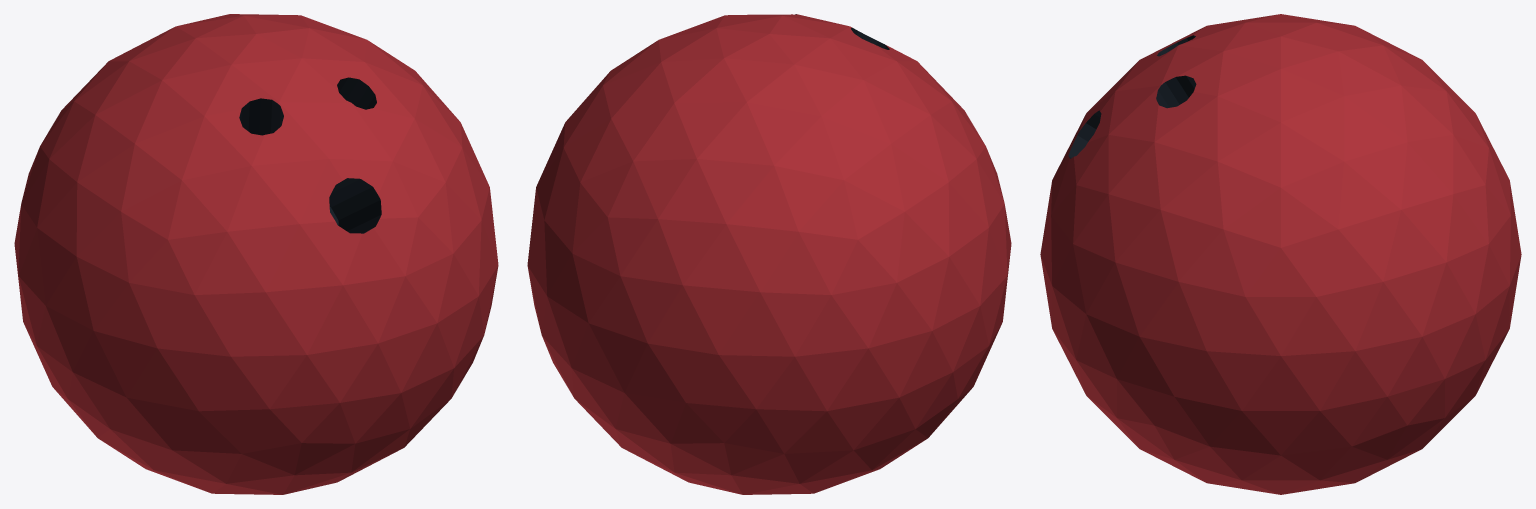
The model's file is BowlingBall_Red.fbx.
3 views of the same model, side by side, from view 1: azimuth 30°, elevation 25°; view 2: azimuth 150°, elevation 25°; view 3: azimuth 270°, elevation 25° (orthographic).
Parts seen in each view (by area): view 1: BowlingBall_Red; view 2: BowlingBall_Red; view 3: BowlingBall_Red.
Boxes of the visible parts, box(x1,y1,x2,y2) form: BowlingBall_Red: box(14, 14, 498, 494); BowlingBall_Red: box(527, 14, 1011, 494); BowlingBall_Red: box(1040, 14, 1521, 494).
Bounding box in the file's own units: 0.217 × 0.217 × 0.217.
Materials: 1 (1 with a texture image).
